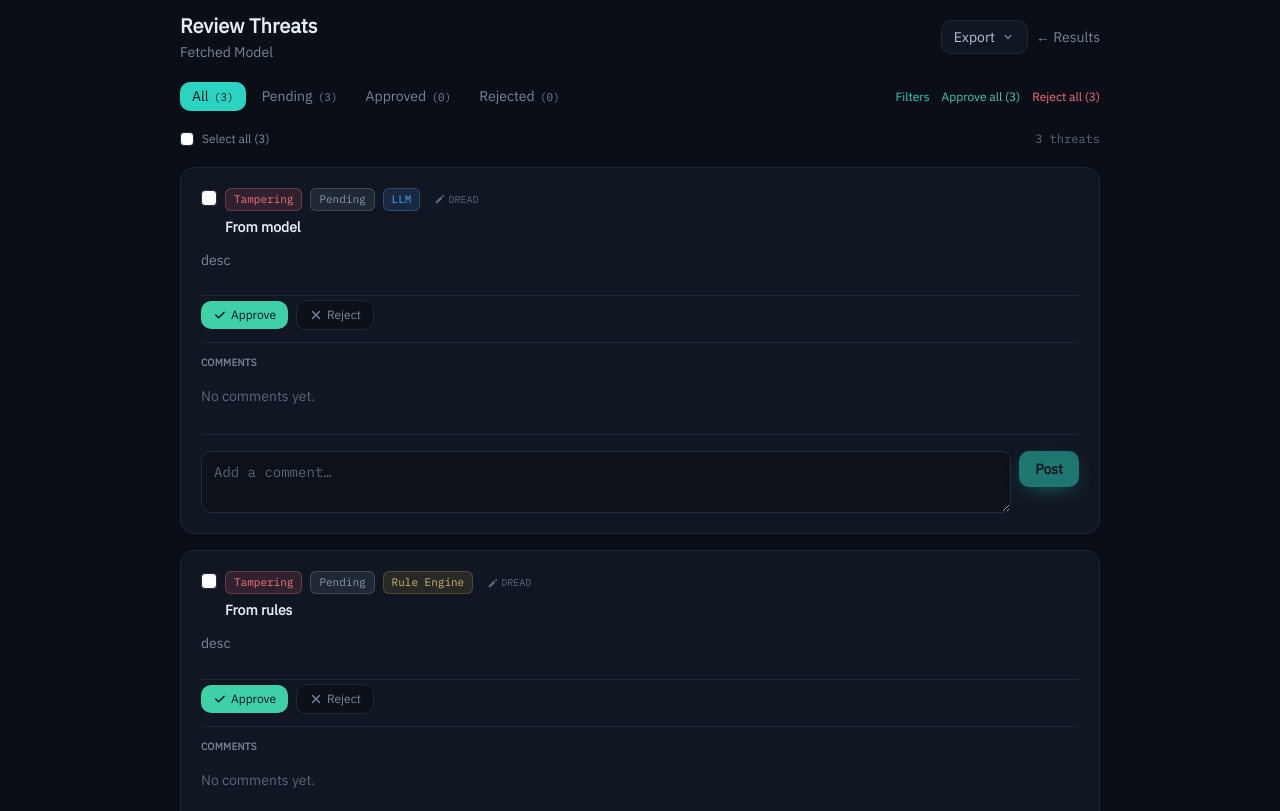
it: Review — source filter › filters to dependency threats when the model has some (BB-66)
Expected: the heading "From model" is shown, [225,218,301,236]
Click the button "Filters": (913, 96) [896,88,930,104]
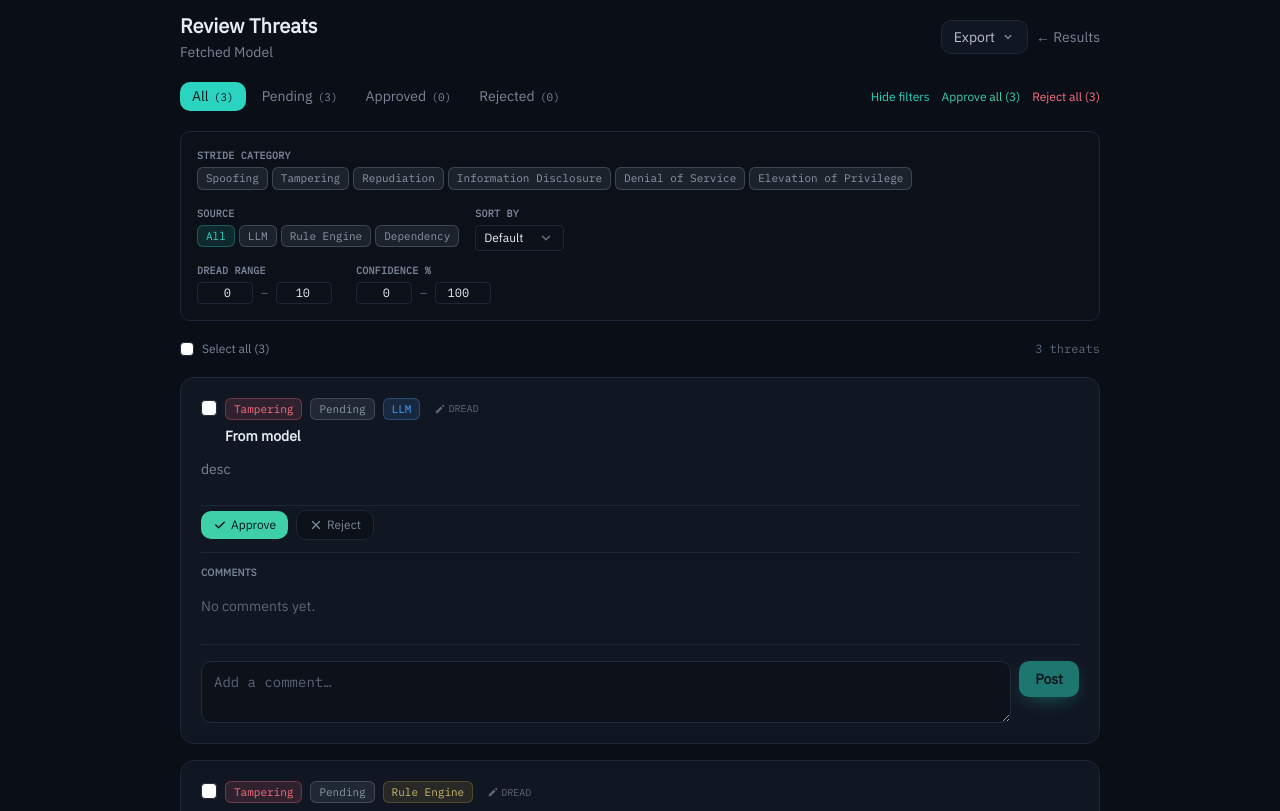
Click the button "Dependency": (417, 236) [375,224,459,247]
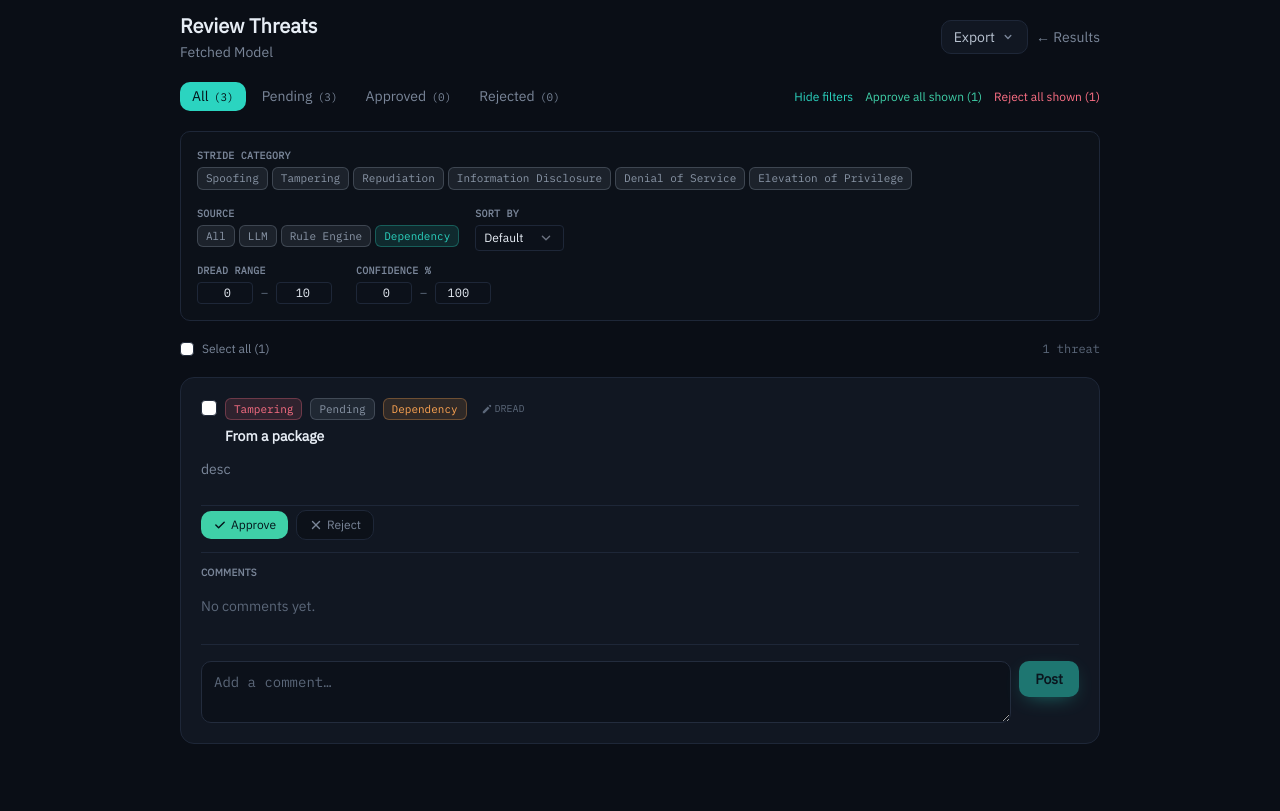
Expected: the heading "From a package" is shown, [225,427,324,445]
Result: the heading "From model" is gone
